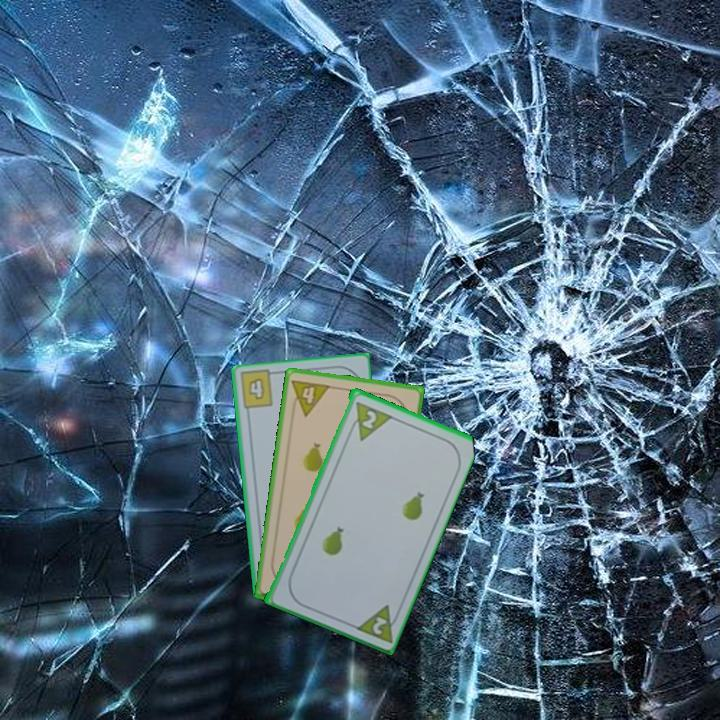2p: (350, 600, 403, 645), (358, 406, 379, 432)
4b: (244, 374, 267, 402)
4p: (287, 376, 333, 419)
